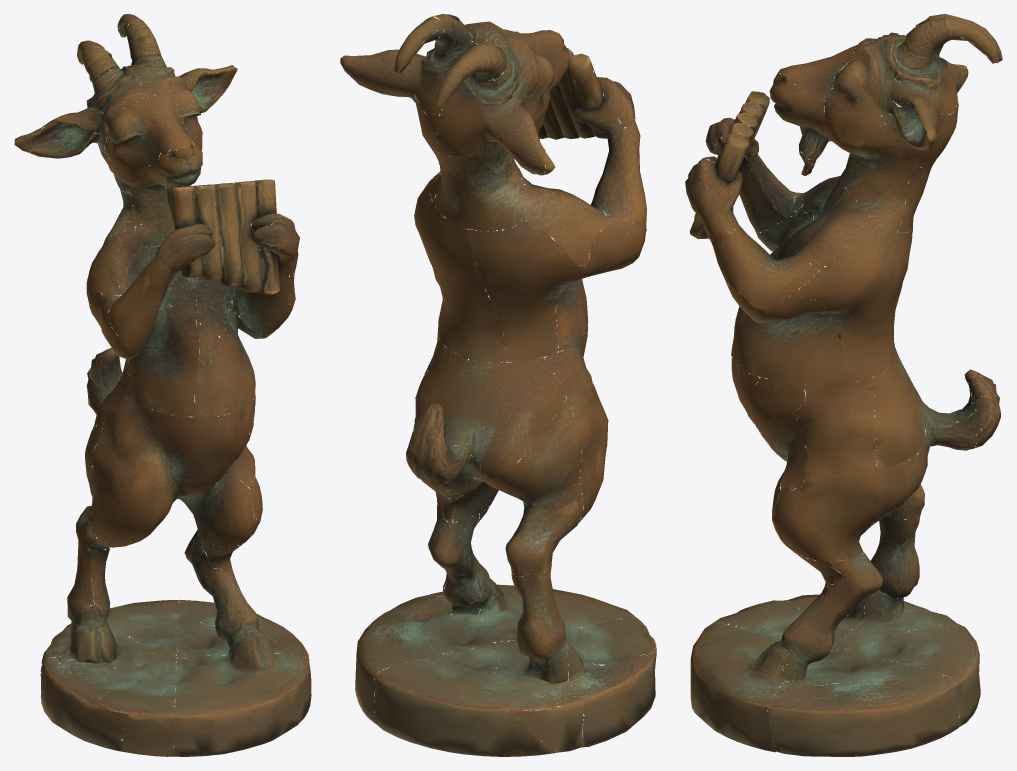
File: h_clock_goat.glb
3 views of the same model, side by side, from view 1: azimuth 30°, elevation 25°; view 2: azimuth 150°, elevation 25°; view 3: azimuth 270°, elevation 25° (orthographic). The views are drawn at different scales.
Visible parts, largest first — view 1: tripo_node_72e6ecb2-73ee-46b7-85f1-40d97274398f; view 2: tripo_node_72e6ecb2-73ee-46b7-85f1-40d97274398f; view 3: tripo_node_72e6ecb2-73ee-46b7-85f1-40d97274398f.
Boxes of the visible parts, x1=… form: tripo_node_72e6ecb2-73ee-46b7-85f1-40d97274398f: x1=14, y1=14, x2=311, y2=756; tripo_node_72e6ecb2-73ee-46b7-85f1-40d97274398f: x1=340, y1=14, x2=656, y2=756; tripo_node_72e6ecb2-73ee-46b7-85f1-40d97274398f: x1=685, y1=14, x2=1002, y2=756.
Size of the model in its own units: 0.3813 by 1 by 0.4206.
Materials: 1 (1 with a texture image).
